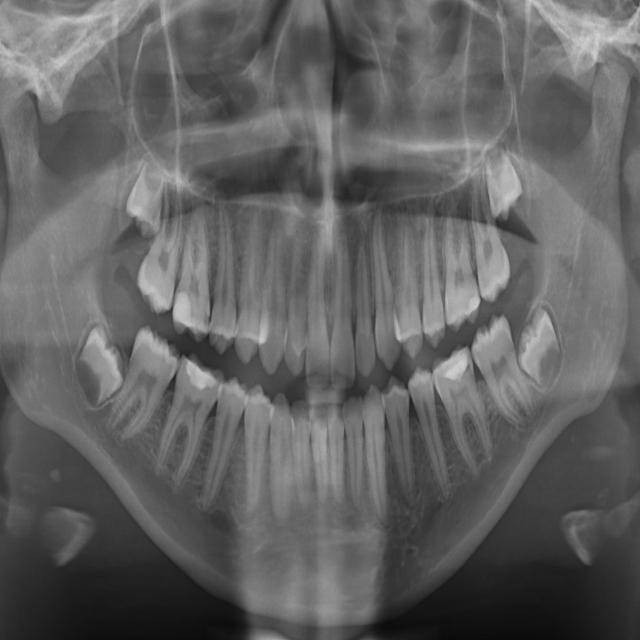CompositeResinRestoration: (185, 356, 217, 402), (174, 290, 198, 334), (441, 349, 472, 379)
DentalCaries: (464, 362, 476, 390), (202, 301, 212, 332)
